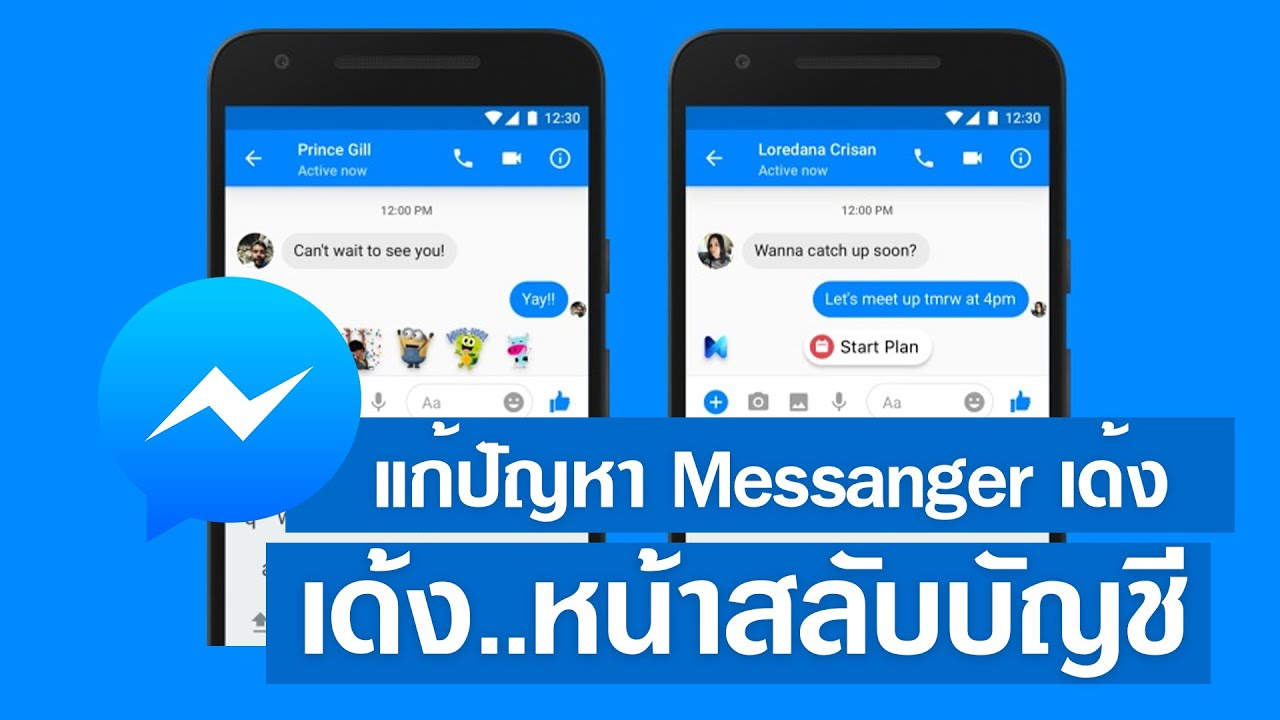phone: (659, 23, 1082, 421), (202, 20, 619, 420)
